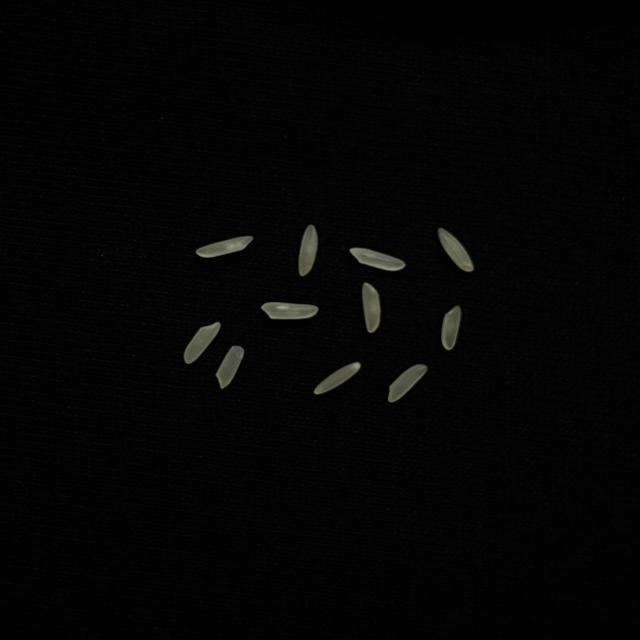Broken: (216, 345, 244, 389)
Full: (438, 227, 473, 272), (313, 362, 362, 394), (388, 364, 428, 403), (184, 322, 221, 364), (349, 246, 406, 272), (195, 236, 254, 258), (298, 224, 318, 277), (261, 302, 319, 320), (362, 282, 381, 333), (442, 305, 462, 350)
